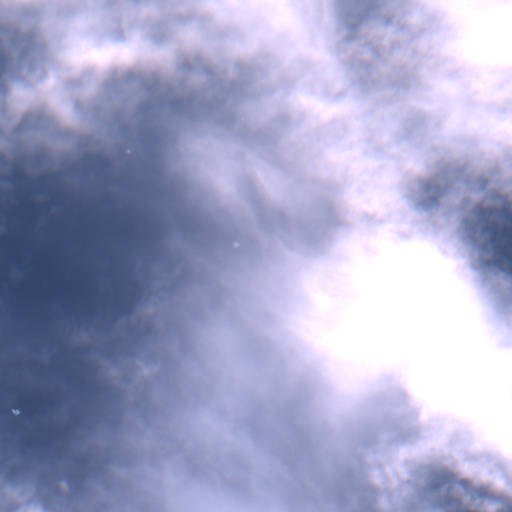Iceberg: (11, 409, 19, 414), (233, 242, 238, 247), (127, 150, 129, 152)
